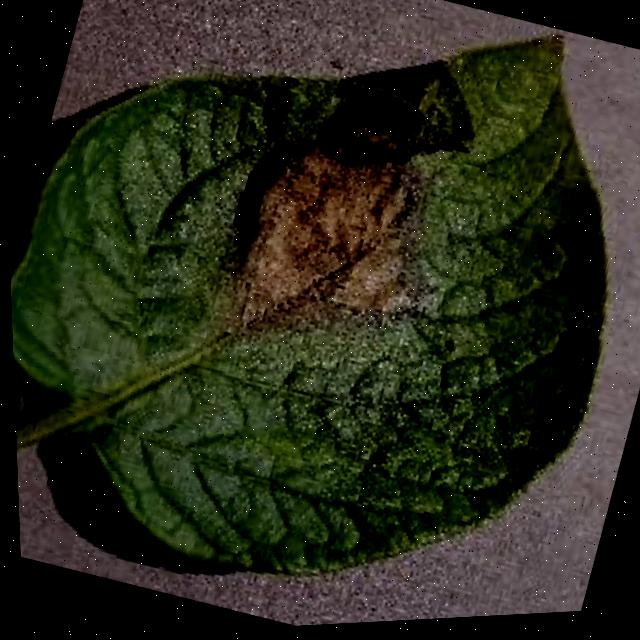Late_blight: (183, 79, 491, 390)
